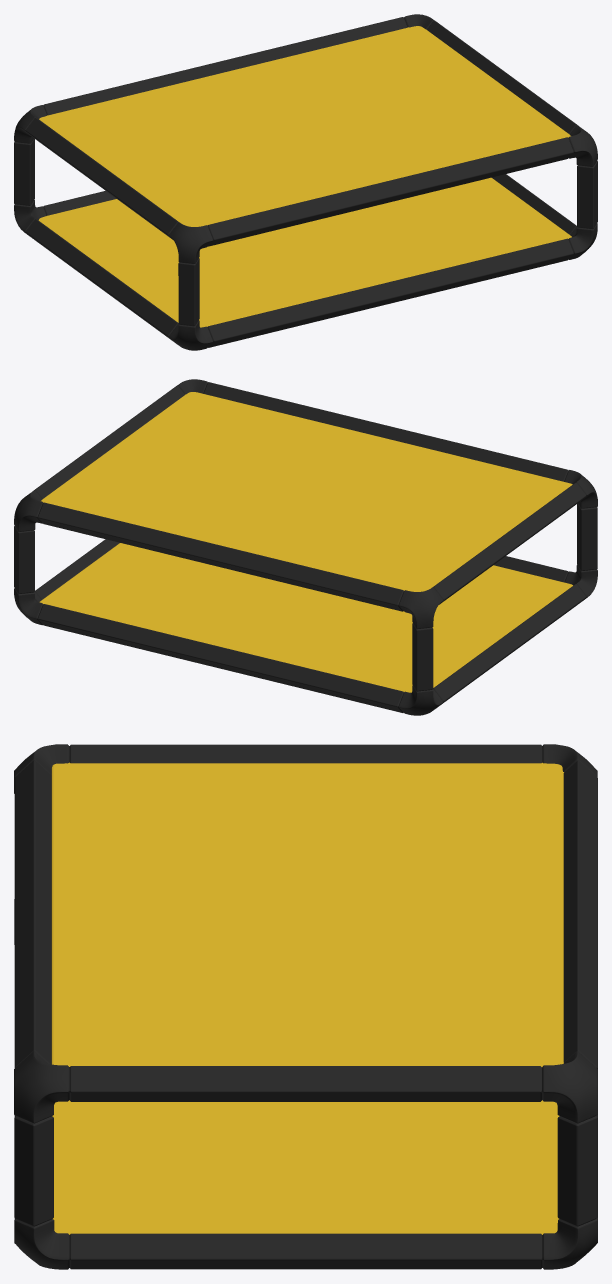
3 renders of one model, top to bottom at view 1: azimuth 30°, elevation 25°; view 2: azimuth 150°, elevation 25°; view 3: azimuth 270°, elevation 25°, orthographic. The views are drawn at different scales.
Visible parts, largest first — view 1: 479x329x79; view 2: 479x329x79; view 3: 479x329x79.
Part boxes in pixels (left/top/right/bottom): 479x329x79: left=14, top=14, right=597, bottom=350; 479x329x79: left=14, top=379, right=597, bottom=715; 479x329x79: left=14, top=744, right=597, bottom=1269.
Size of the model in its own units: 0.5567 by 0.1567 by 0.4063.
